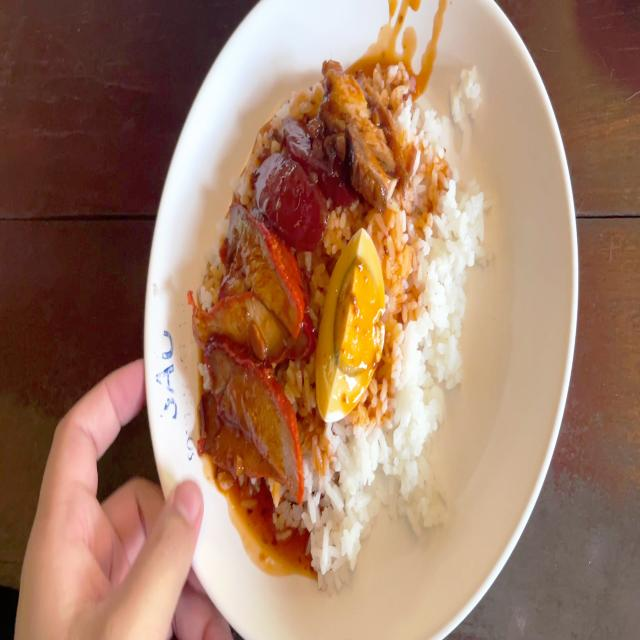boiled_egg: (316, 232, 383, 419)
chainese_sausage: (263, 122, 336, 240)
crispy_pork: (322, 65, 412, 195)
red_pork: (203, 265, 309, 475), (222, 207, 276, 309)
red_pork_and_crispy_pork: (203, 68, 486, 545)
rice: (408, 104, 466, 416), (308, 421, 397, 568), (391, 316, 439, 520)
